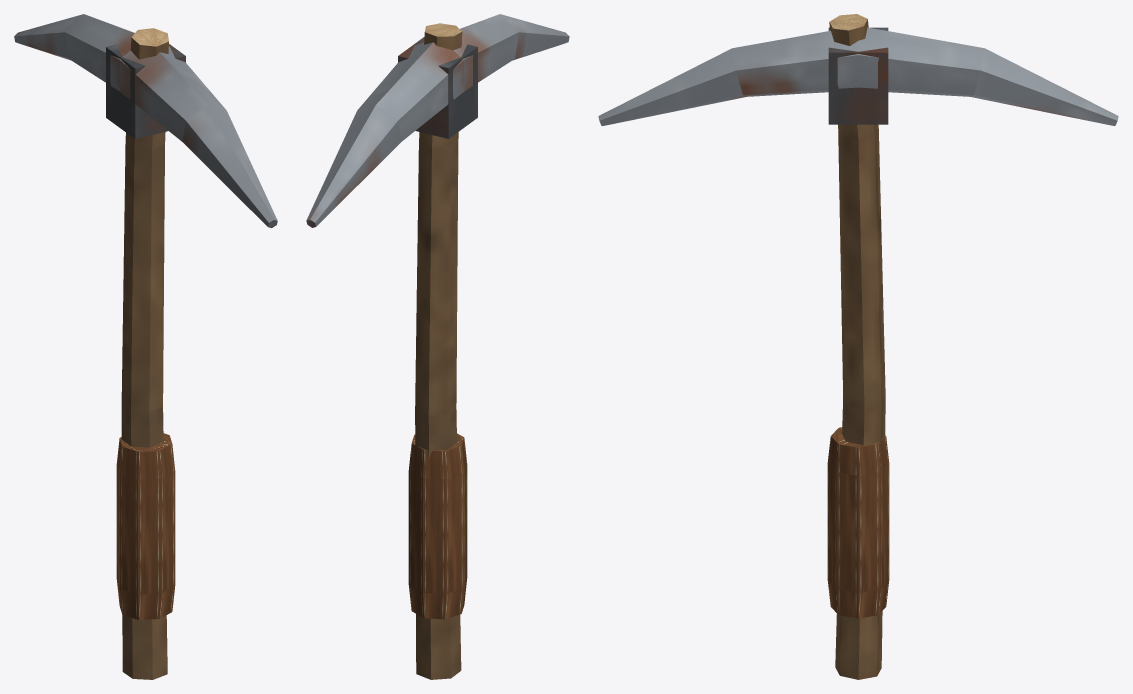
File: SM_Pickaxe_Iron.fbx
The picture shows the model from 3 angles, left to right: view 1: azimuth 30°, elevation 25°; view 2: azimuth 150°, elevation 25°; view 3: azimuth 270°, elevation 25°; orthographic projection.
Visible parts, largest first — view 1: SM_Pickaxe_Iron; view 2: SM_Pickaxe_Iron; view 3: SM_Pickaxe_Iron.
Part boxes in pixels (x1,y1,x2,y2): SM_Pickaxe_Iron: (14, 14, 277, 679); SM_Pickaxe_Iron: (306, 14, 569, 679); SM_Pickaxe_Iron: (598, 14, 1118, 679).
Size of the model in its own units: 0.3118 by 3.61 by 2.62.
1 material, 1 textured.
